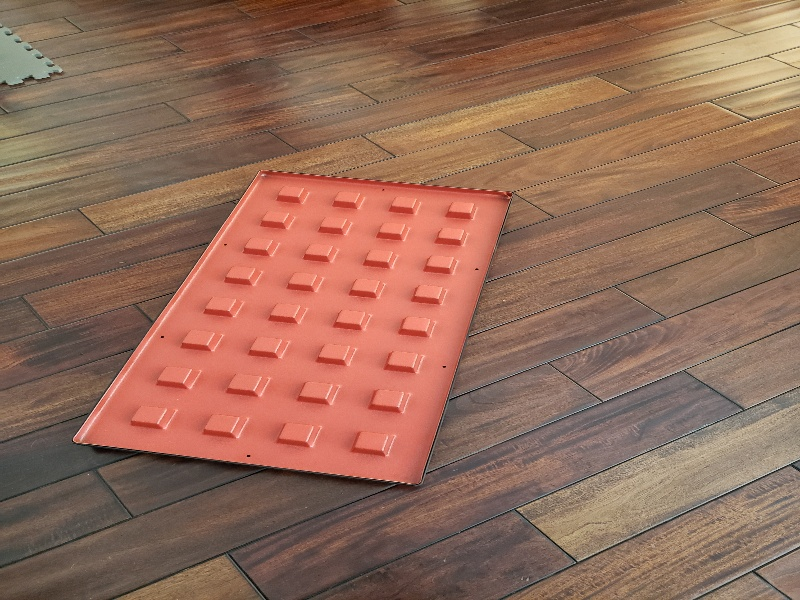skystone_base: (59, 161, 530, 494)
